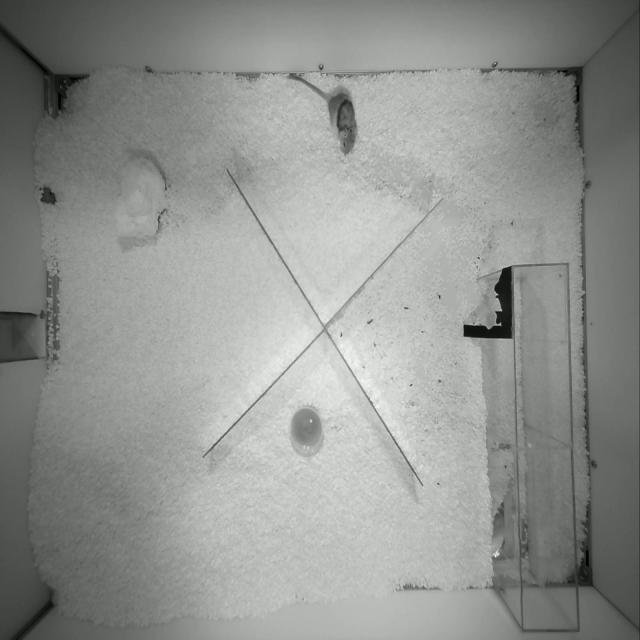adult_front: (289, 74, 357, 155)
